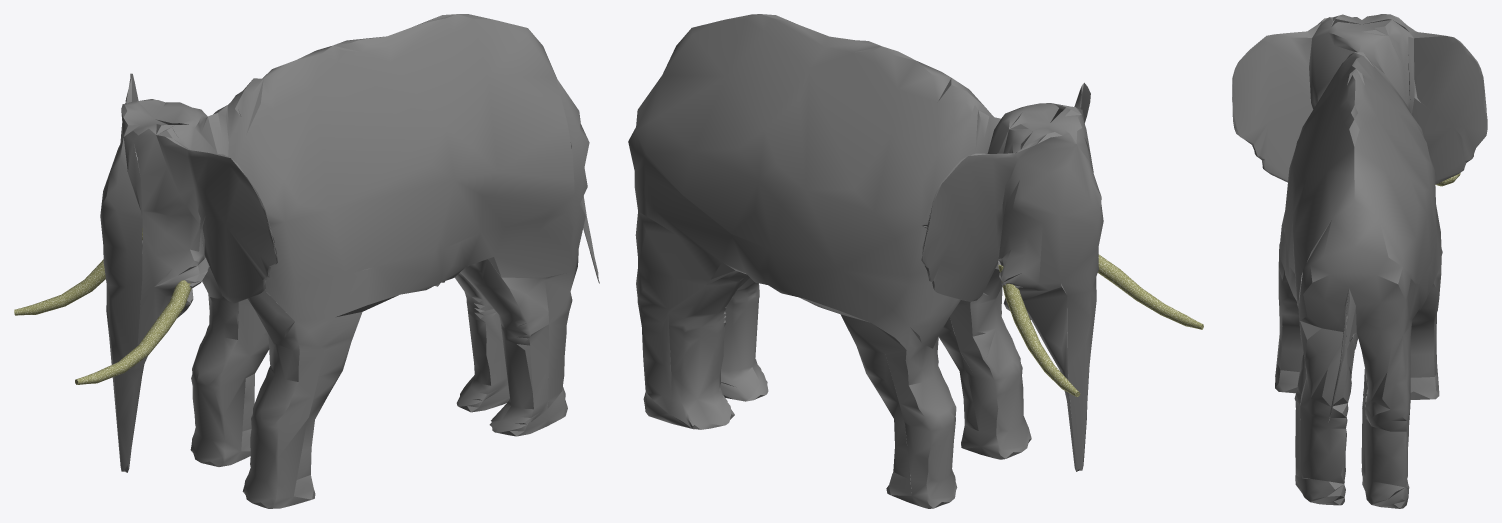
Rendered from elephant.dae.
3 renders of one model, left to right at view 1: azimuth 30°, elevation 25°; view 2: azimuth 150°, elevation 25°; view 3: azimuth 270°, elevation 25°, orthographic. The views are drawn at different scales.
Visible parts, largest first — view 1: group_2, group_1 (×2); view 2: group_2, group_1 (×2); view 3: group_2.
Boxes of the visible parts, x1=… form: group_2: x1=100, y1=14, x2=599, y2=508; group_1 (×2): x1=14, y1=228, x2=191, y2=384; group_2: x1=628, y1=14, x2=1103, y2=508; group_1 (×2): x1=998, y1=254, x2=1203, y2=396; group_2: x1=1232, y1=14, x2=1487, y2=508.
Size of the model in its own units: 184 by 86.75 by 135.
